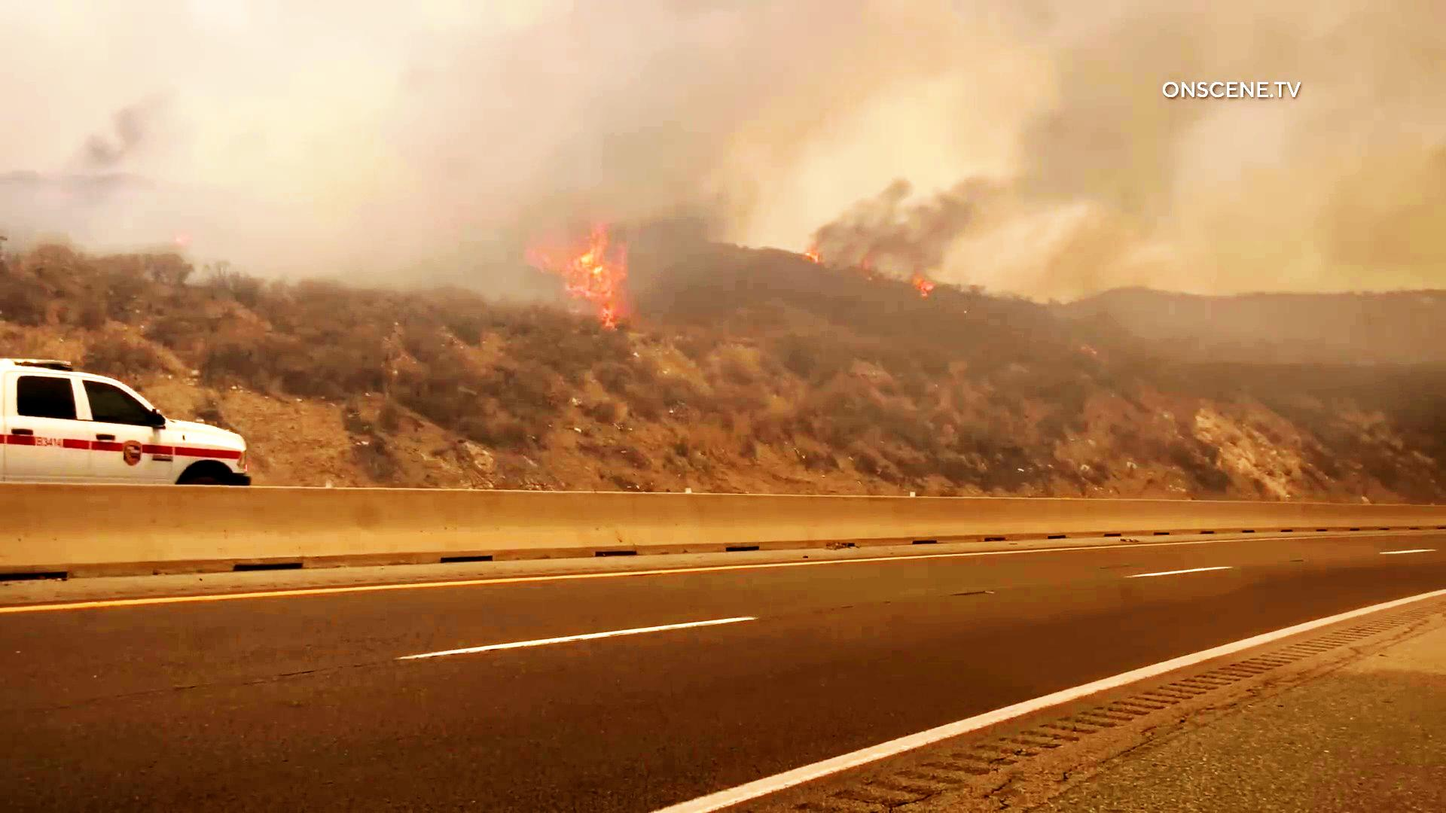fire: (546, 200, 648, 326)
